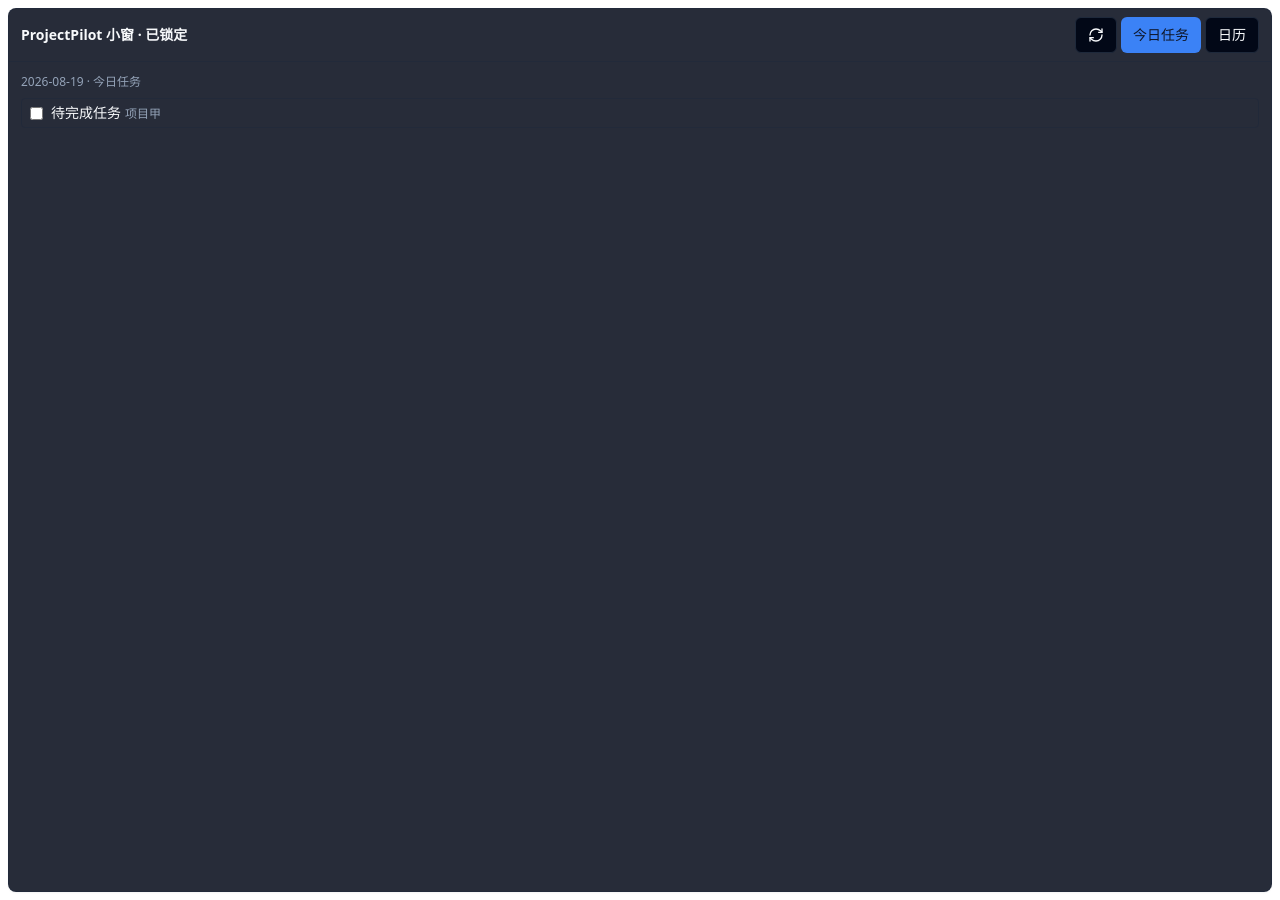
Test case: DesktopWidgetApp task confirmation and refresh › refreshes tasks and calendar in place without changing window state
The image size is (1280, 900).
Expected: the button "待完成任务" is shown, [51,103,1242,123]
Expected: the text "ProjectPilot 小窗 · 已锁定" is shown, [21,25,187,45]
Step 1. Click the button named "刷新" → x=1096, y=35, box [1075,17,1117,53]
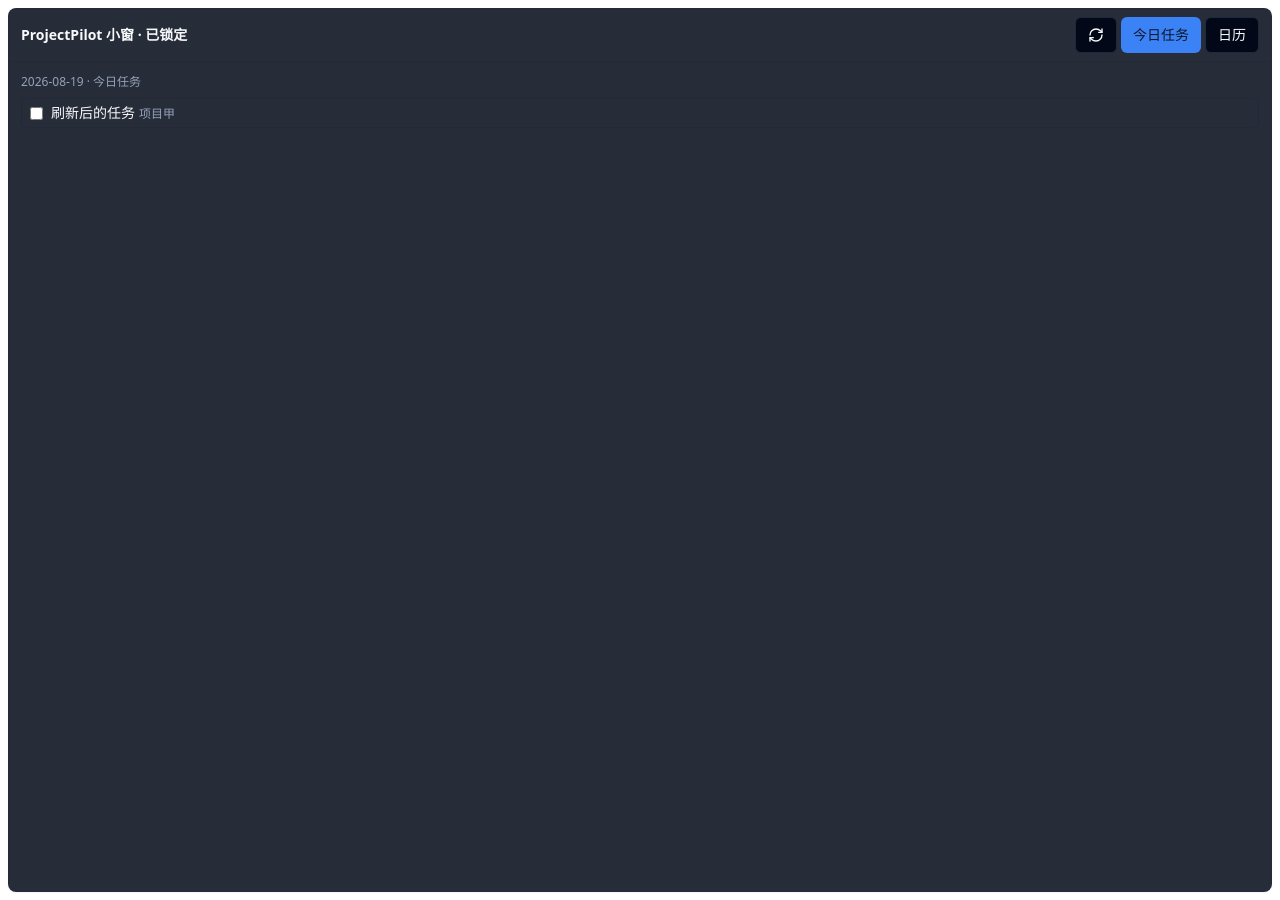
Result: the button "刷新后的任务" is shown at [51,103,1242,123]
Result: the button "待完成任务" is gone
